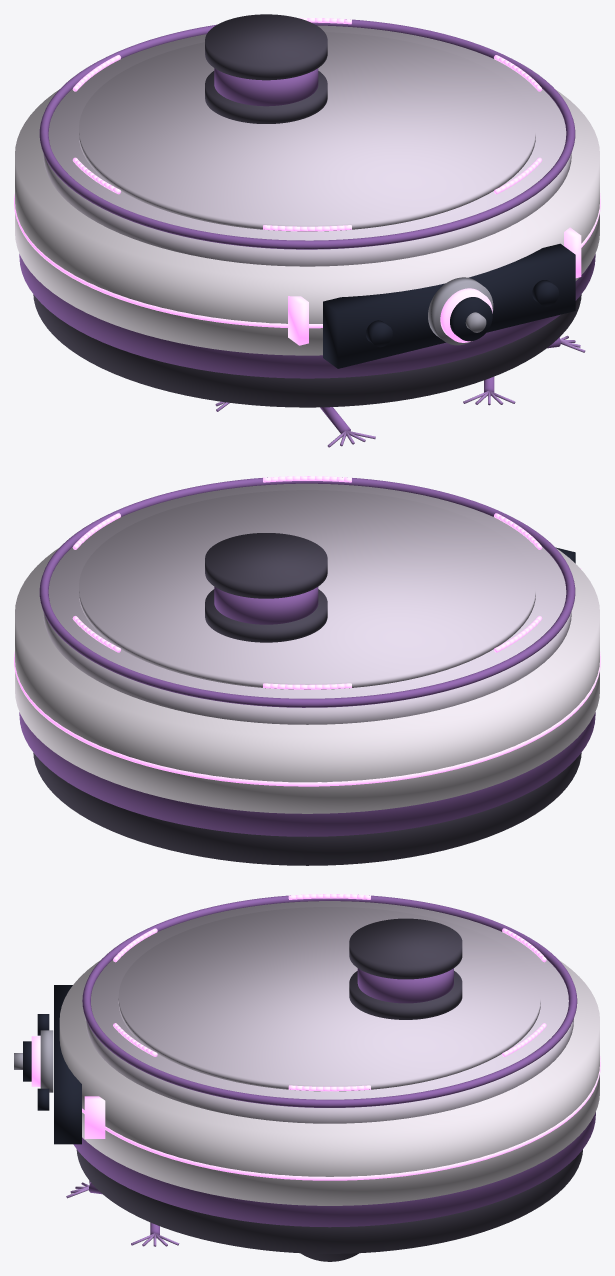
The model's file is ZIPPY.glb.
3 views of the same model, one above another, from view 1: azimuth 30°, elevation 25°; view 2: azimuth 150°, elevation 25°; view 3: azimuth 270°, elevation 25° (orthographic). The views are drawn at different scales.
Parts seen in each view (by area): view 1: painel central da tampa, carcaca externa perola, tampa superior abaulada, chassi inferior grafite, modulo frontal de sensores, cinta estrutural, friso circular roxo, tampa, base torre, corpo, friso lateral lavanda, aro da camera (+3 smaller); view 2: painel central da tampa, carcaca externa perola, tampa superior abaulada, chassi inferior grafite, cinta estrutural, friso circular roxo, tampa, friso lateral lavanda, base torre, corpo; view 3: painel central da tampa, carcaca externa perola, tampa superior abaulada, chassi inferior grafite, cinta estrutural, friso circular roxo, tampa, modulo frontal de sensores, friso lateral lavanda, base torre, corpo, LED frontal 0.172 (+2 smaller).
Boxes of the visible parts, x1,y1,x2,y2 form: painel central da tampa: (79, 32, 535, 231); carcaca externa perola: (15, 89, 599, 355); tampa superior abaulada: (43, 25, 571, 266); chassi inferior grafite: (33, 294, 581, 407); modulo frontal de sensores: (323, 243, 575, 368); cinta estrutural: (19, 254, 595, 378); friso circular roxo: (39, 19, 575, 249); tampa: (205, 14, 327, 80); base torre: (205, 71, 327, 123); corpo: (214, 68, 318, 106); friso lateral lavanda: (14, 193, 600, 328); aro da camera: (428, 277, 493, 345); painel central da tampa: (79, 490, 535, 689); carcaca externa perola: (15, 548, 599, 813); tampa superior abaulada: (43, 483, 571, 724); chassi inferior grafite: (33, 753, 581, 865); cinta estrutural: (19, 712, 595, 836); friso circular roxo: (39, 477, 575, 707); tampa: (205, 533, 327, 598); friso lateral lavanda: (14, 651, 600, 786); base torre: (205, 589, 327, 642); corpo: (214, 586, 318, 624); painel central da tampa: (118, 907, 540, 1091); carcaca externa perola: (59, 960, 599, 1205); tampa superior abaulada: (85, 901, 573, 1123); chassi inferior grafite: (76, 1149, 582, 1253); cinta estrutural: (73, 1112, 595, 1227); friso circular roxo: (82, 895, 577, 1107); tampa: (349, 918, 462, 979); modulo frontal de sensores: (54, 985, 81, 1144); friso lateral lavanda: (82, 1056, 600, 1180); base torre: (349, 971, 462, 1019); corpo: (357, 968, 453, 1003); LED frontal 0.172: (84, 1096, 105, 1138).
Size of the model in its own units: 0.642 by 0.3304 by 0.695.
